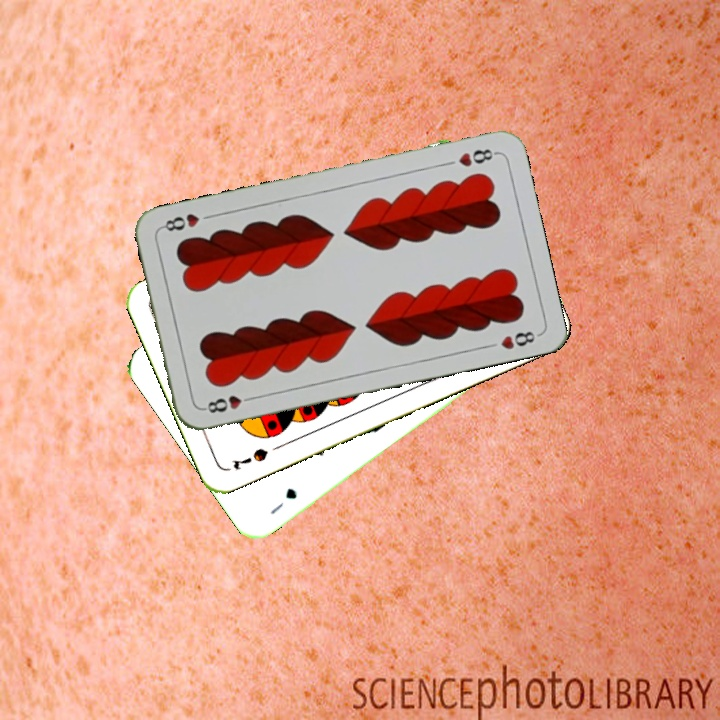GU: (266, 484, 300, 517)
H8: (199, 391, 257, 416), (454, 145, 500, 169)
S7: (227, 444, 271, 472)
